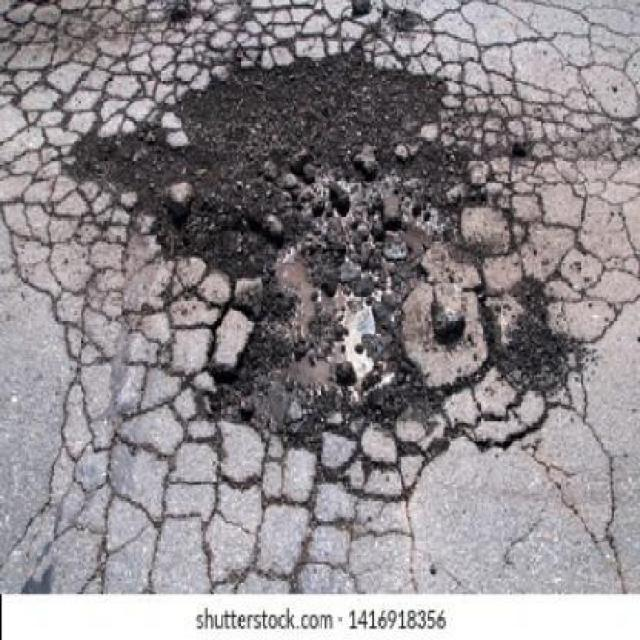Pothole: (67, 46, 491, 454)
